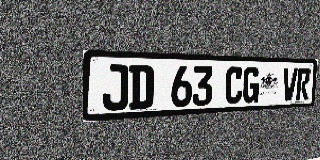3: (192, 66, 213, 106)
6: (171, 66, 193, 107)
C: (224, 67, 243, 104)
D: (129, 65, 154, 110)
G: (242, 67, 260, 103)
J: (102, 64, 129, 111)
R: (296, 68, 311, 100)
V: (282, 68, 298, 101)
